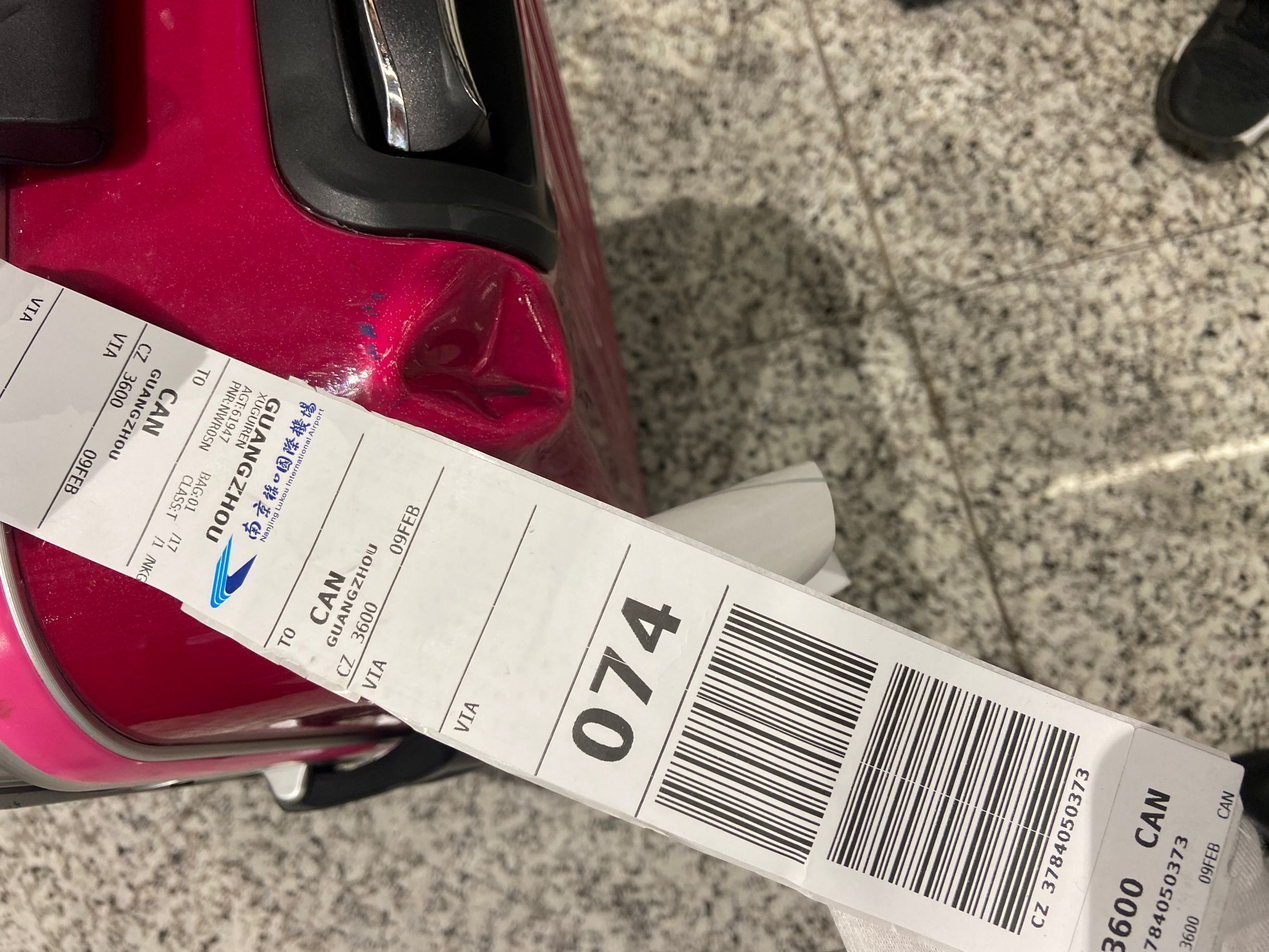rupture: (366, 240, 576, 451)
